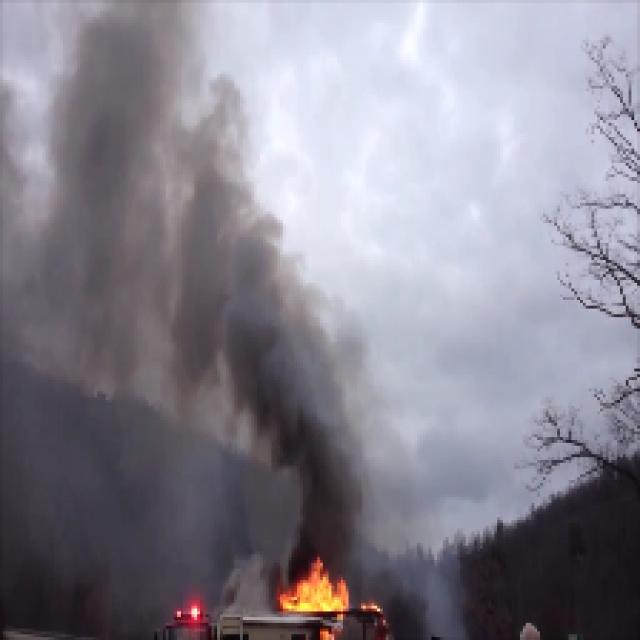fire: (284, 561, 348, 608)
smoke: (224, 295, 299, 428), (298, 422, 351, 556)
